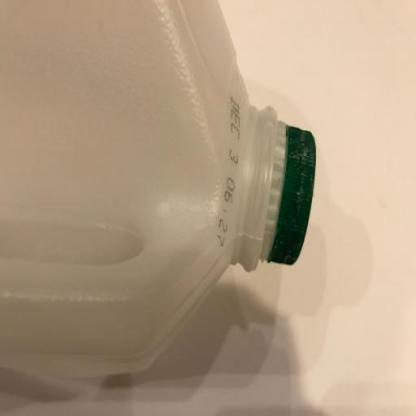trash: (3, 0, 334, 378), (0, 1, 318, 376)
